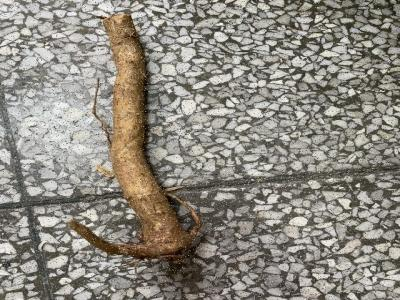Root: (69, 15, 200, 260)
